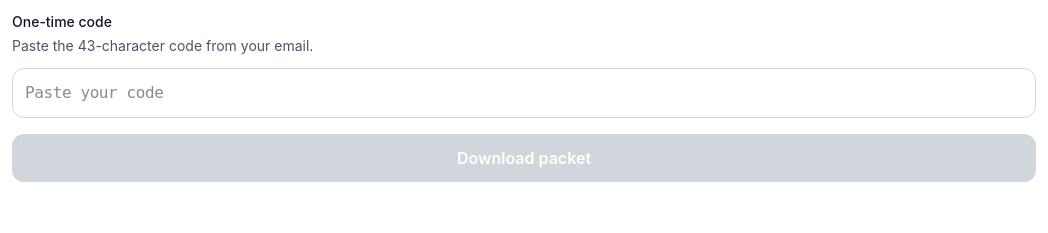
it: refusals are coarse and the input is still cleared › shows a message for EXHAUSTED
Type "Zm9vYmFyYmF6cXV1eGNvcmdlZ3JhdWx0Z2FycGx5Z2g" into the field labelled "One-time code".
click(524, 93); type("Zm9vYmFyYmF6cXV1eGNvcmdlZ3JhdWx0Z2FycGx5Z2g")  # box [12,68,1036,118]
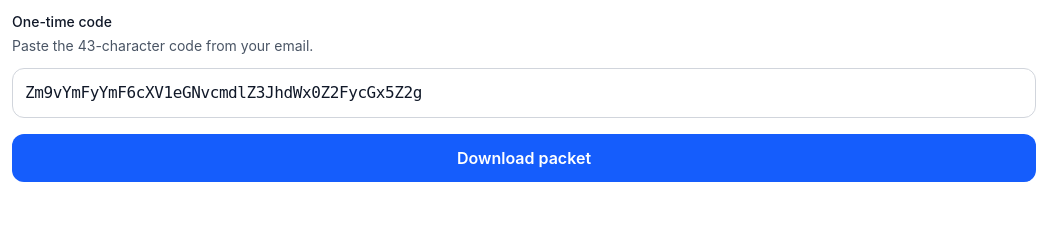
Click the button "Download packet".
click(524, 158)  # box [12,134,1036,182]
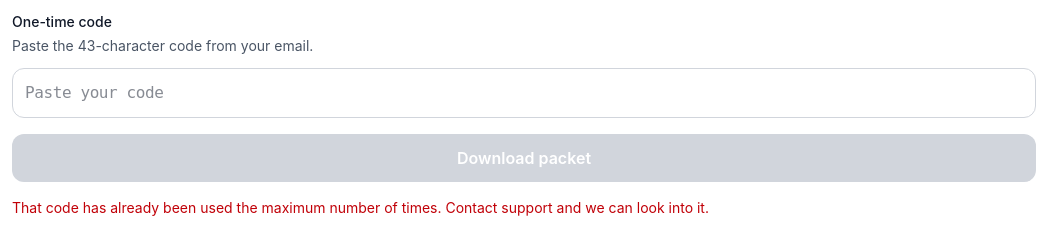
Expected: the text "maximum number of times" is shown, [12,199,709,216]
Expected: the field labelled "One-time code" is empty, [12,68,1036,118]
